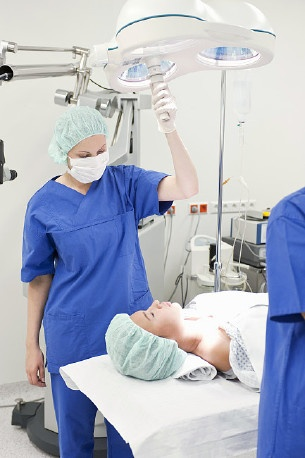Mask: (71, 141, 113, 184)
